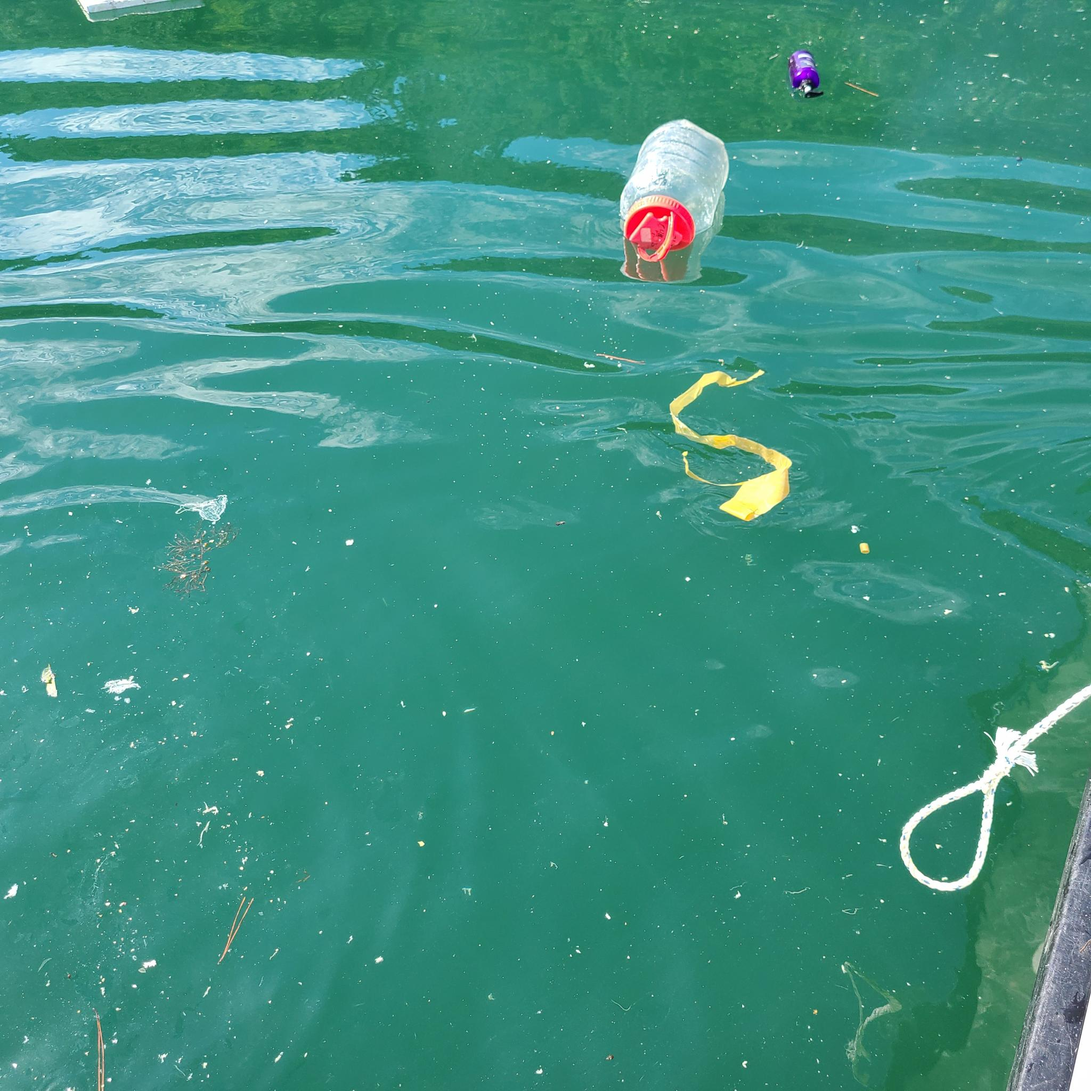sampah_terapung: (901, 686, 1091, 892), (788, 52, 824, 99), (78, 1, 177, 14)
